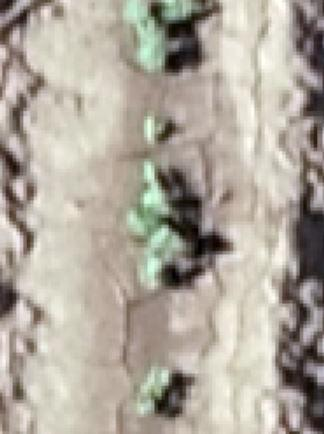cotton: (143, 161, 167, 207), (139, 365, 172, 395), (151, 227, 186, 253), (126, 209, 160, 235), (138, 15, 162, 46), (143, 39, 166, 70), (137, 387, 158, 413), (144, 255, 163, 283), (165, 1, 201, 15), (126, 2, 147, 22)
